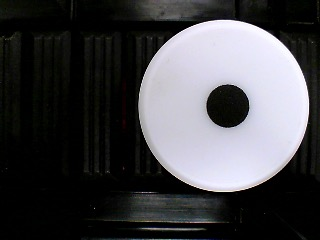BOHO: (137, 19, 311, 192)
